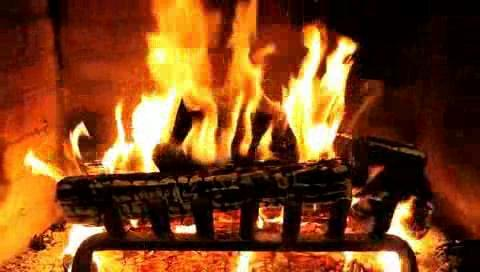fire: (117, 9, 351, 189)
